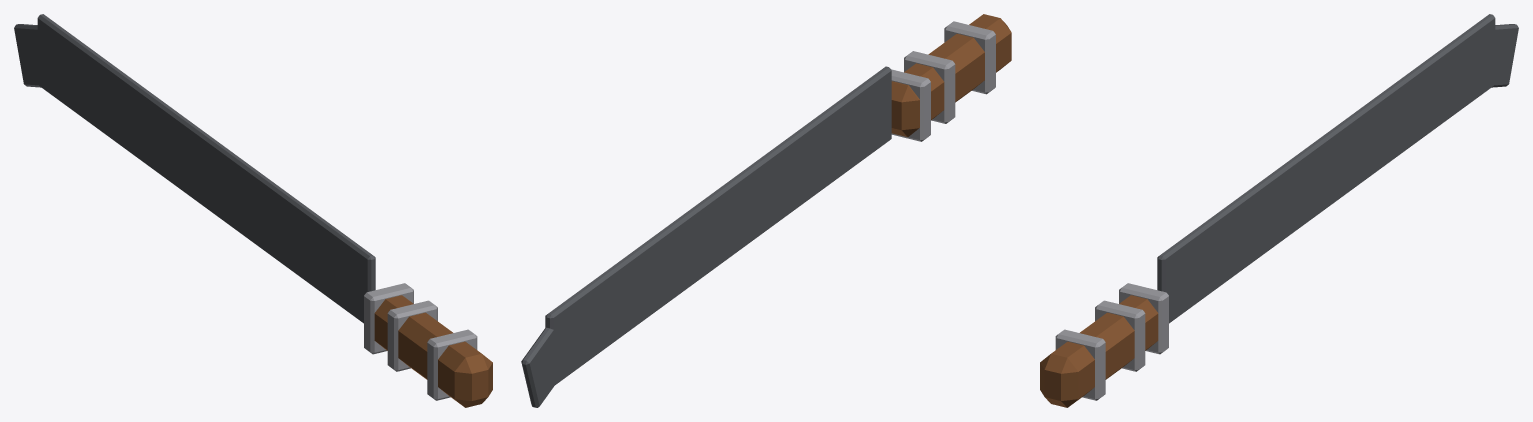
Rendered from machette_art.glb.
The picture shows the model from 3 angles, left to right: view 1: azimuth 30°, elevation 25°; view 2: azimuth 150°, elevation 25°; view 3: azimuth 330°, elevation 25°; orthographic projection. The views are drawn at different scales.
Visible parts, largest first — view 1: machette_art; view 2: machette_art; view 3: machette_art.
Part boxes in pixels (x1,y1,x2,y2): machette_art: (14, 14, 492, 407); machette_art: (521, 14, 1011, 407); machette_art: (1040, 14, 1518, 407).
Bounding box in the file's own units: 0.032 × 0.0567 × 0.5847.
